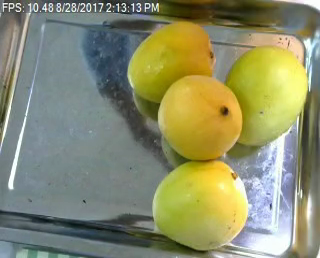Mango: (150, 159, 248, 248), (226, 45, 308, 149), (158, 76, 243, 160), (127, 22, 213, 103)
